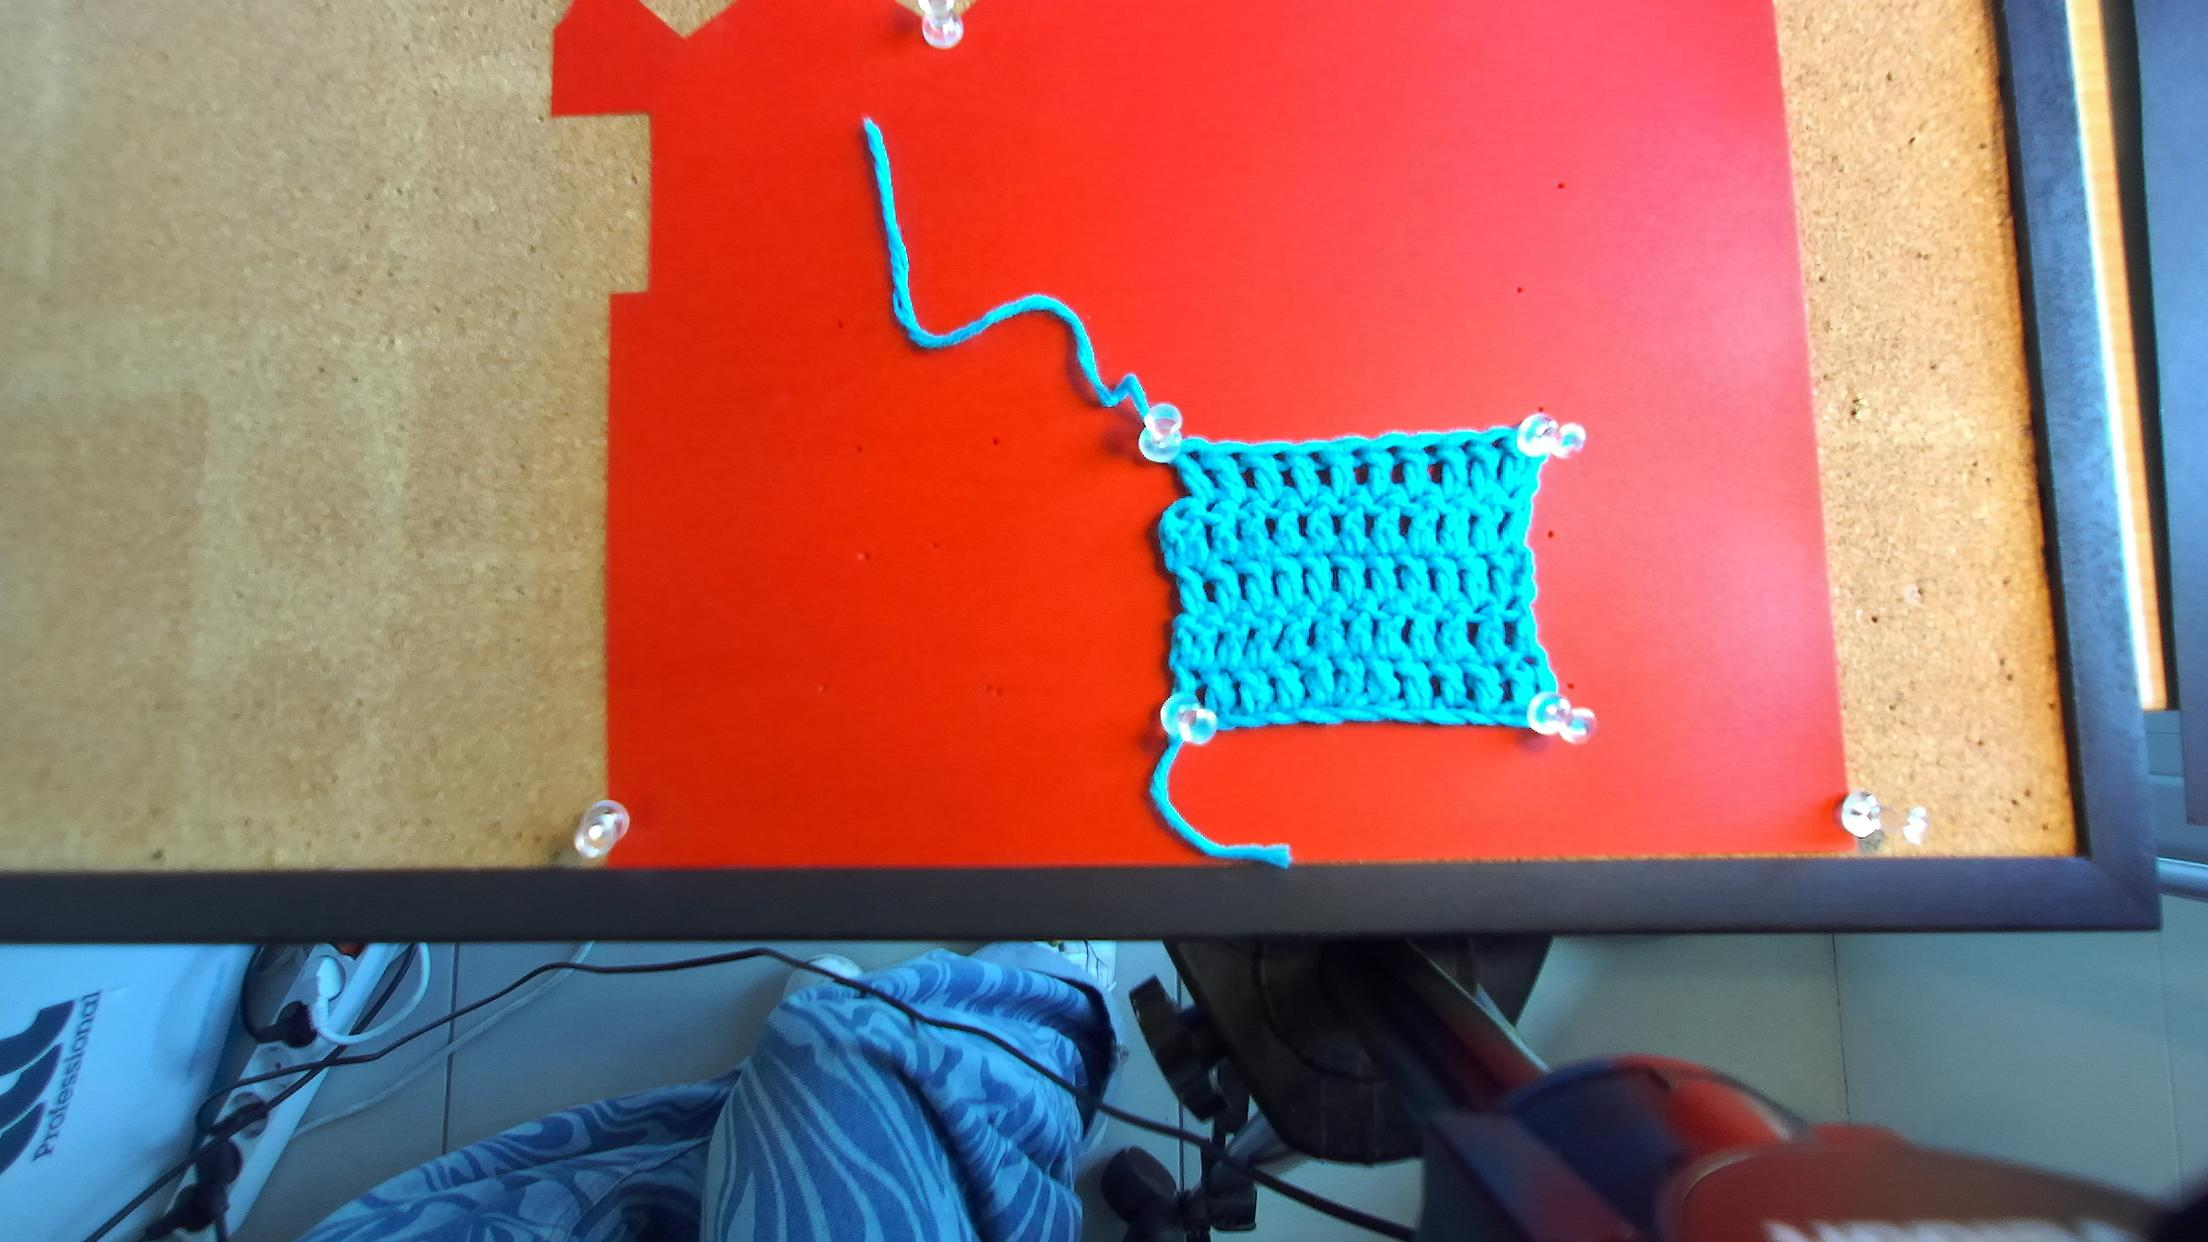hole: (1489, 437, 1507, 450), (1457, 438, 1473, 453), (1186, 449, 1200, 464), (1422, 444, 1438, 456), (1228, 450, 1244, 461), (1385, 444, 1398, 455), (1271, 452, 1286, 461), (1353, 447, 1365, 458), (1307, 452, 1319, 461)
swatch: (1140, 420, 1594, 751)
